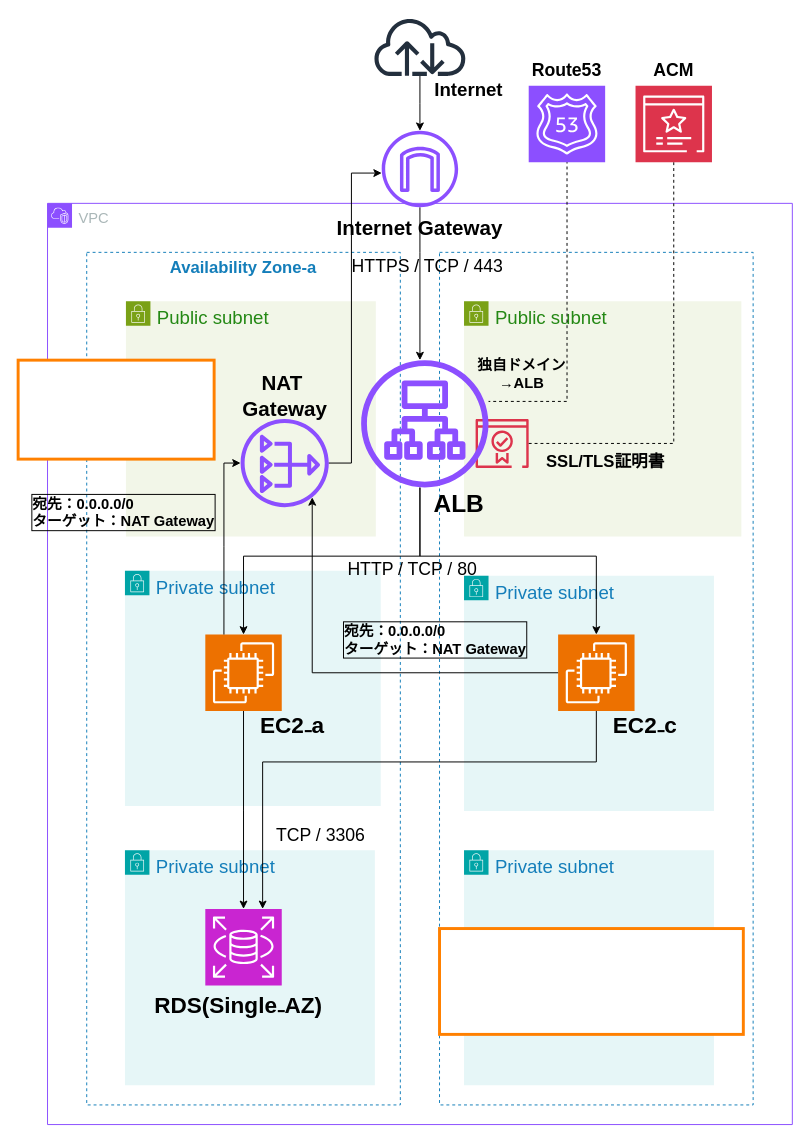
This 809x1142 diagram has some shape labels left out. The shapes that lost their labels are listed below. From the top down, each one's box as (x1, y1, x2, y2) in pixels, then its label:
(16, 358, 215, 460): ※ 検証環境のため、NAT Gatewayはコストを考慮して1台構成
(439, 251, 753, 1105): Availability Zone-c
(438, 927, 744, 1035): ※RDSはSingle-AZ構成。将来のMulti-AZ化を想定し、2AZ分のPrivate subnetを確保
